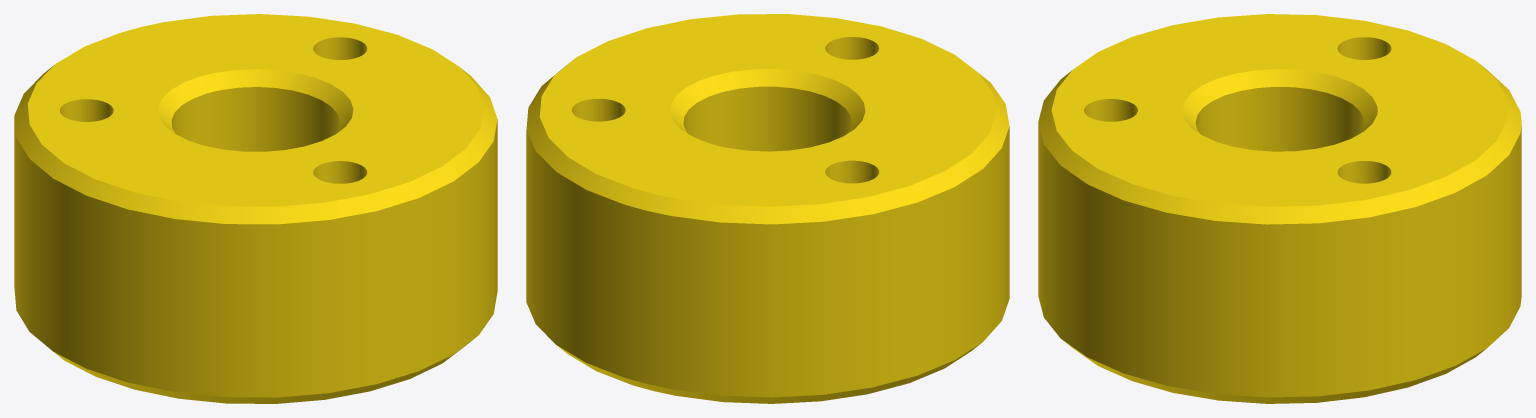
Rendered from A26_W108_pinionOutside.gltf.
The picture shows the model from 3 angles, left to right: view 1: azimuth 30°, elevation 25°; view 2: azimuth 150°, elevation 25°; view 3: azimuth 270°, elevation 25°; orthographic projection.
Parts seen in each view (by area): view 1: mesh18034, mesh18036, mesh18035, mesh18031, mesh18032, mesh18033, mesh18037, mesh18041, mesh18039; view 2: mesh18034, mesh18036, mesh18035, mesh18031, mesh18032, mesh18033, mesh18039, mesh18037, mesh18041; view 3: mesh18034, mesh18036, mesh18035, mesh18031, mesh18032, mesh18033, mesh18041, mesh18039, mesh18037.
Part boxes in pixels (bbox=[...]): mesh18034: bbox=[14, 115, 497, 397]; mesh18036: bbox=[27, 14, 483, 206]; mesh18035: bbox=[14, 65, 497, 224]; mesh18031: bbox=[171, 87, 339, 151]; mesh18032: bbox=[158, 69, 353, 134]; mesh18033: bbox=[54, 339, 473, 403]; mesh18037: bbox=[313, 37, 367, 59]; mesh18041: bbox=[313, 161, 367, 183]; mesh18039: bbox=[60, 99, 113, 121]; mesh18034: bbox=[526, 126, 1009, 397]; mesh18036: bbox=[539, 14, 995, 206]; mesh18035: bbox=[526, 60, 1009, 224]; mesh18031: bbox=[683, 86, 851, 151]; mesh18032: bbox=[670, 69, 865, 132]; mesh18033: bbox=[557, 343, 981, 403]; mesh18039: bbox=[825, 160, 879, 183]; mesh18037: bbox=[571, 99, 625, 121]; mesh18041: bbox=[825, 37, 879, 59]; mesh18034: bbox=[1038, 124, 1521, 397]; mesh18036: bbox=[1051, 14, 1508, 206]; mesh18035: bbox=[1038, 63, 1521, 224]; mesh18031: bbox=[1195, 87, 1364, 151]; mesh18032: bbox=[1182, 69, 1377, 134]; mesh18033: bbox=[1063, 340, 1485, 403]; mesh18041: bbox=[1084, 99, 1137, 121]; mesh18039: bbox=[1337, 37, 1391, 59]; mesh18037: bbox=[1337, 161, 1391, 183].
Size of the model in its own units: 0.0363 by 0.0163 by 0.0364.
